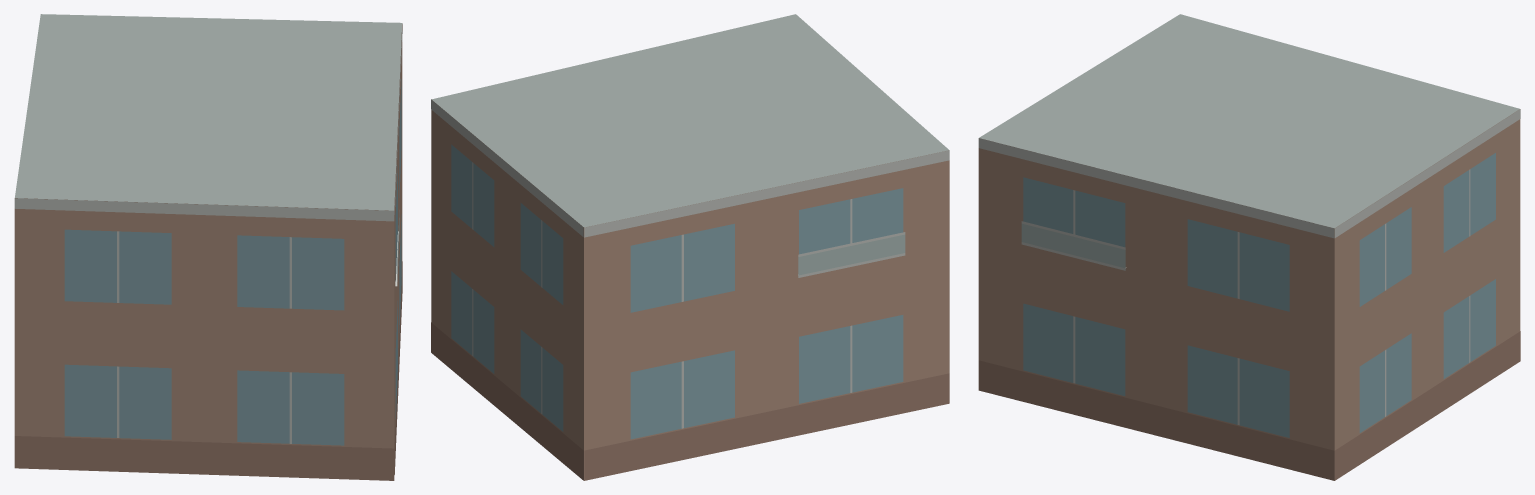
The model's file is survey-upis-33039238.glb.
The picture shows the model from 3 angles, left to right: view 1: azimuth 30°, elevation 25°; view 2: azimuth 150°, elevation 25°; view 3: azimuth 270°, elevation 25°; orthographic projection. The views are drawn at different scales.
Parts seen in each view (by area): view 1: survey-upis-33039238.tmp; view 2: survey-upis-33039238.tmp; view 3: survey-upis-33039238.tmp.
Boxes of the visible parts, x1,y1,x2,y2 form: survey-upis-33039238.tmp: (14, 14, 402, 480); survey-upis-33039238.tmp: (431, 14, 949, 480); survey-upis-33039238.tmp: (978, 14, 1520, 480).
Bounding box in the file's own units: 11.12 × 6.1 × 11.87.
